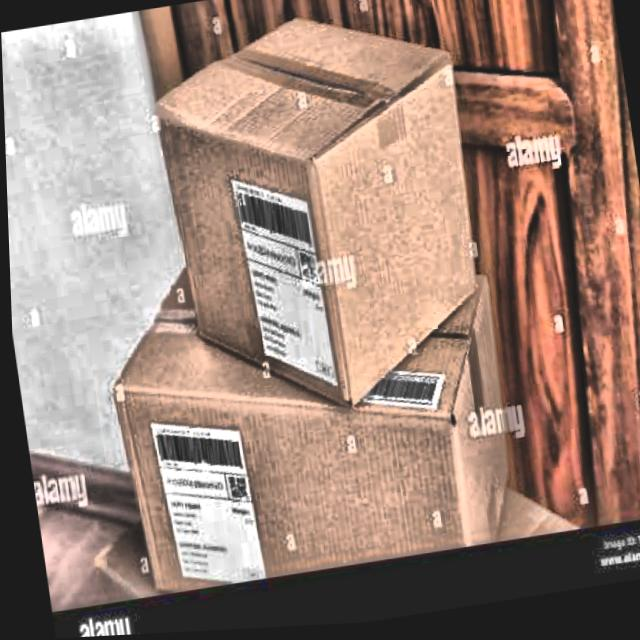Cardbox: (73, 24, 551, 610), (104, 346, 261, 610)
